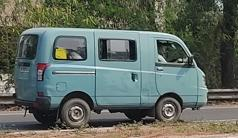Auto: (15, 26, 210, 127)
